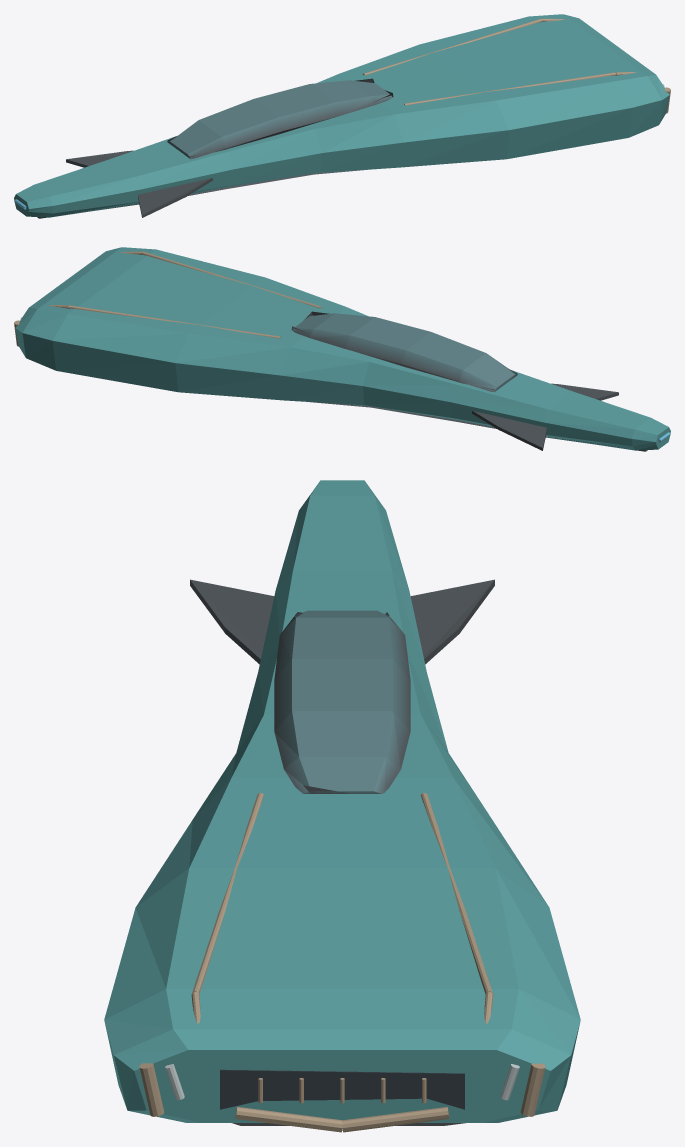
Rendered from jetjet_teal_flight.glb.
The picture shows the model from 3 angles, top to bottom: view 1: azimuth 30°, elevation 25°; view 2: azimuth 150°, elevation 25°; view 3: azimuth 270°, elevation 25°; orthographic projection. The views are drawn at different scales.
Visible parts, largest first — view 1: hull_0, cockpit_frame_2, aft_fins_7, bonnet_edge_3, lower_keel_1; view 2: hull_0, cockpit_frame_2, aft_fins_7, bonnet_edge_3, lower_keel_1; view 3: hull_0, cockpit_frame_2, aft_fins_7, front_grille_8, bonnet_edge_3, front_chevron_6, front_corner_4.
Part boxes in pixels (box(x1,y1,x2,y2)): hull_0: box(14, 14, 669, 217); cockpit_frame_2: box(167, 78, 393, 159); aft_fins_7: box(66, 150, 213, 217); bonnet_edge_3: box(362, 18, 636, 105); lower_keel_1: box(37, 169, 367, 218); hull_0: box(15, 247, 670, 450); cockpit_frame_2: box(291, 311, 517, 392); aft_fins_7: box(471, 383, 618, 450); bonnet_edge_3: box(48, 251, 322, 338); lower_keel_1: box(310, 402, 647, 451); hull_0: box(104, 480, 580, 1122); cockpit_frame_2: box(274, 610, 410, 793); aft_fins_7: box(190, 579, 494, 664); front_grille_8: box(220, 1069, 464, 1109); bonnet_edge_3: box(191, 793, 493, 1023); front_chevron_6: box(235, 1107, 449, 1132); front_corner_4: box(139, 1063, 545, 1116).
Size of the model in its own units: 10.21 by 1.23 by 3.5.
